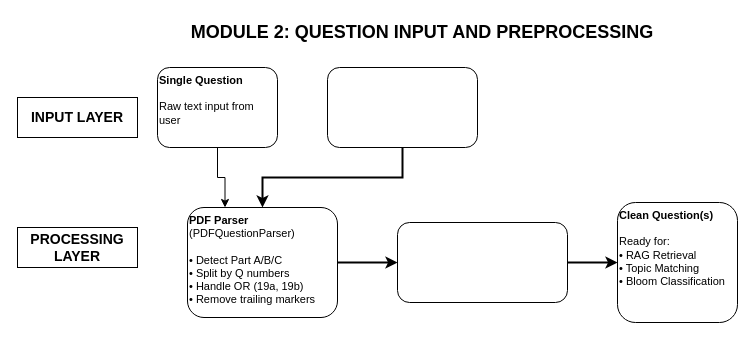
Image size: 755x340. Some labels were removed from this diagram. Here are the shapes that lost their labels. From the top down, the centre of each, then its label:
point 402,107: PDF Batch Upload Question paper with multiple questions
point 482,262: Unified Text Cleaning • clean question text • Unicode normalization (NFKC)
